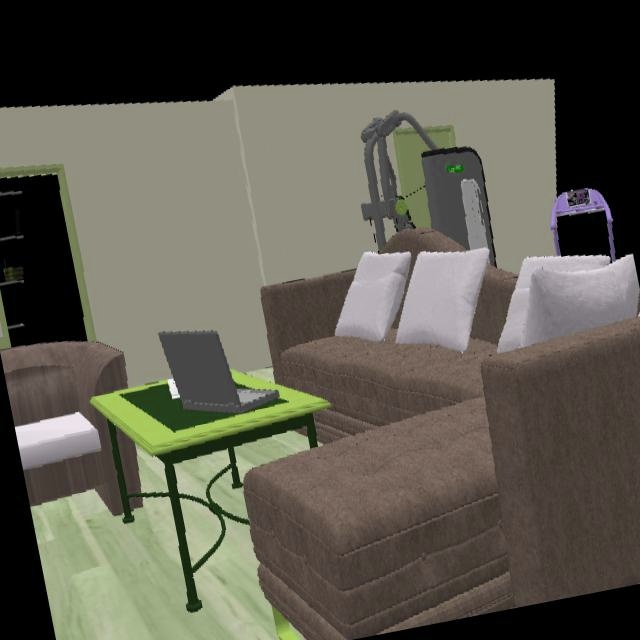book: (165, 379, 178, 397)
laptop: (158, 331, 279, 416)
pillow: (498, 253, 640, 351), (396, 251, 490, 352), (336, 253, 411, 343), (15, 412, 102, 471)
sofa: (243, 265, 640, 640), (0, 341, 128, 514), (383, 229, 465, 256), (116, 428, 141, 496), (130, 497, 143, 510)
table: (90, 370, 333, 614)
